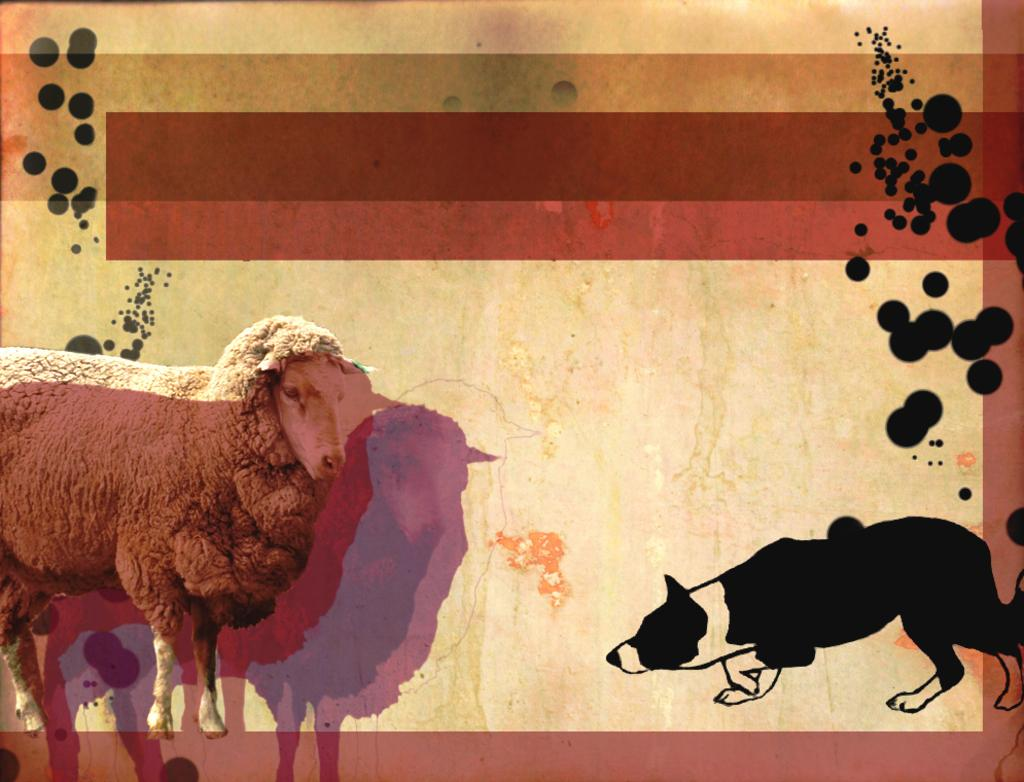Sheep: (39, 397, 498, 781), (2, 316, 377, 735), (5, 352, 379, 735)
